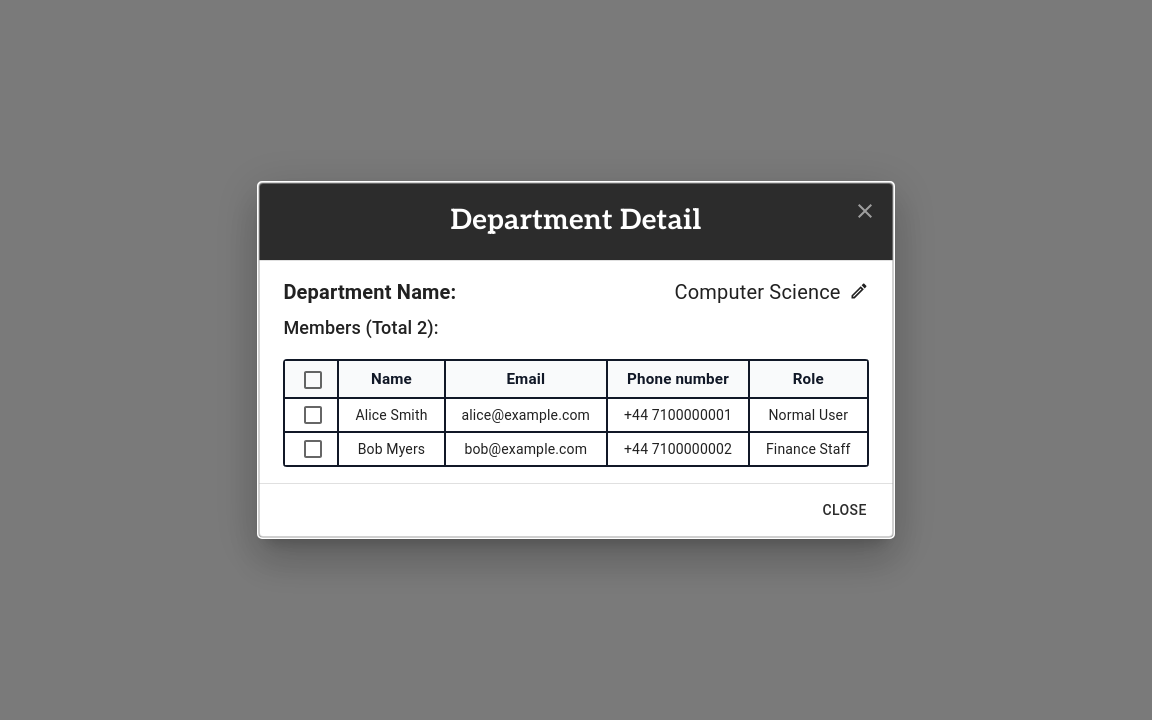
Scenario: Super-admin ViewDepartmentDialog › failed department name update shows server error message
This screenshot has width=1152, height=720.
Expected: the text "Alice Smith" is shown, [339, 399, 446, 433]
Click the icon next to "Computer Science" at x=859, y=291, box [849, 281, 869, 301]
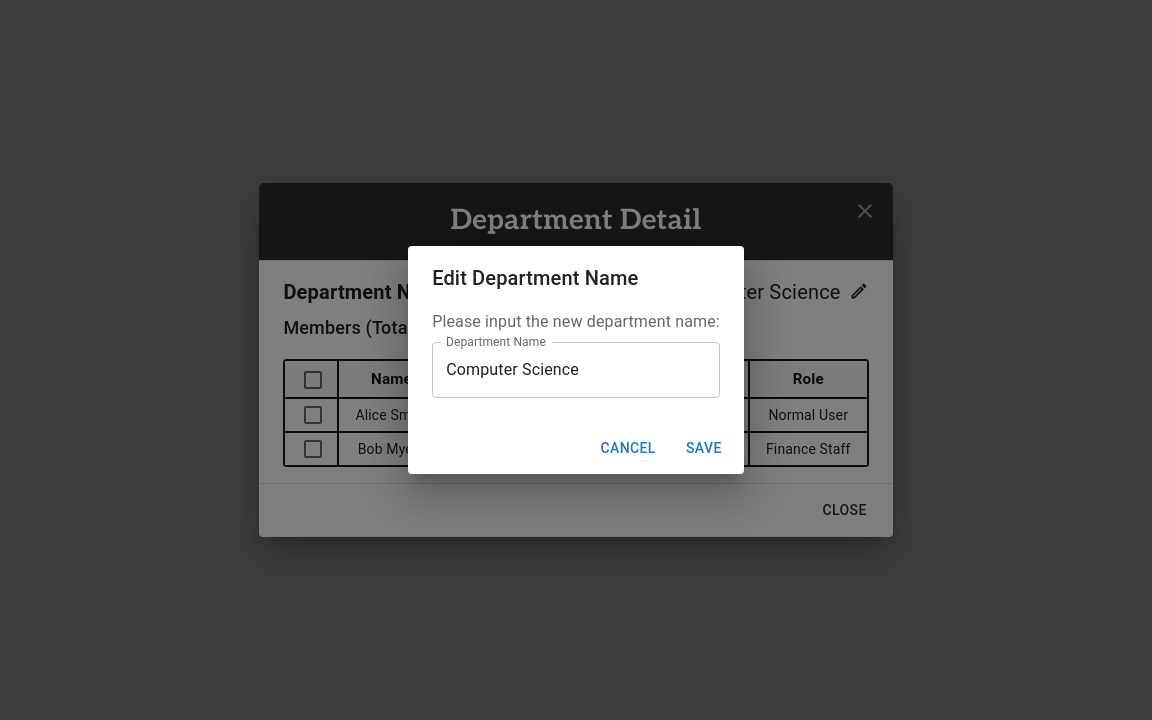
Replace the text in the field labelled "Department Name" with "Dup" at x=576, y=370, box [432, 342, 720, 398]
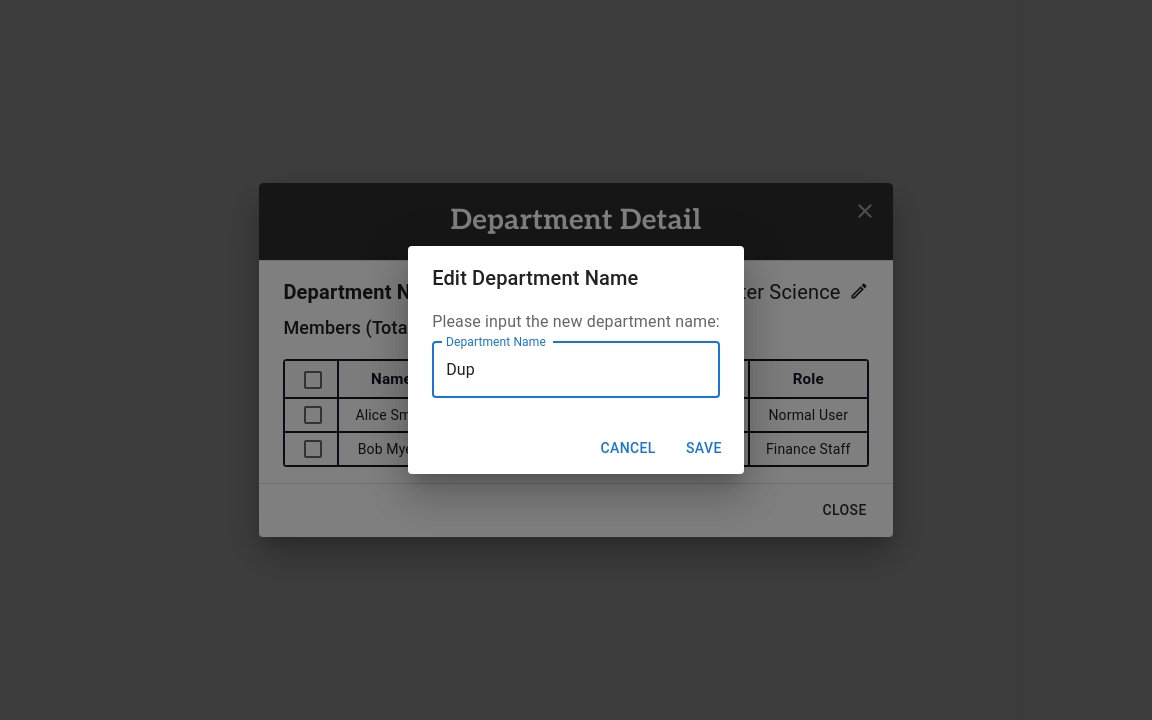
Click the button "Save" at x=704, y=448, box [672, 430, 736, 466]
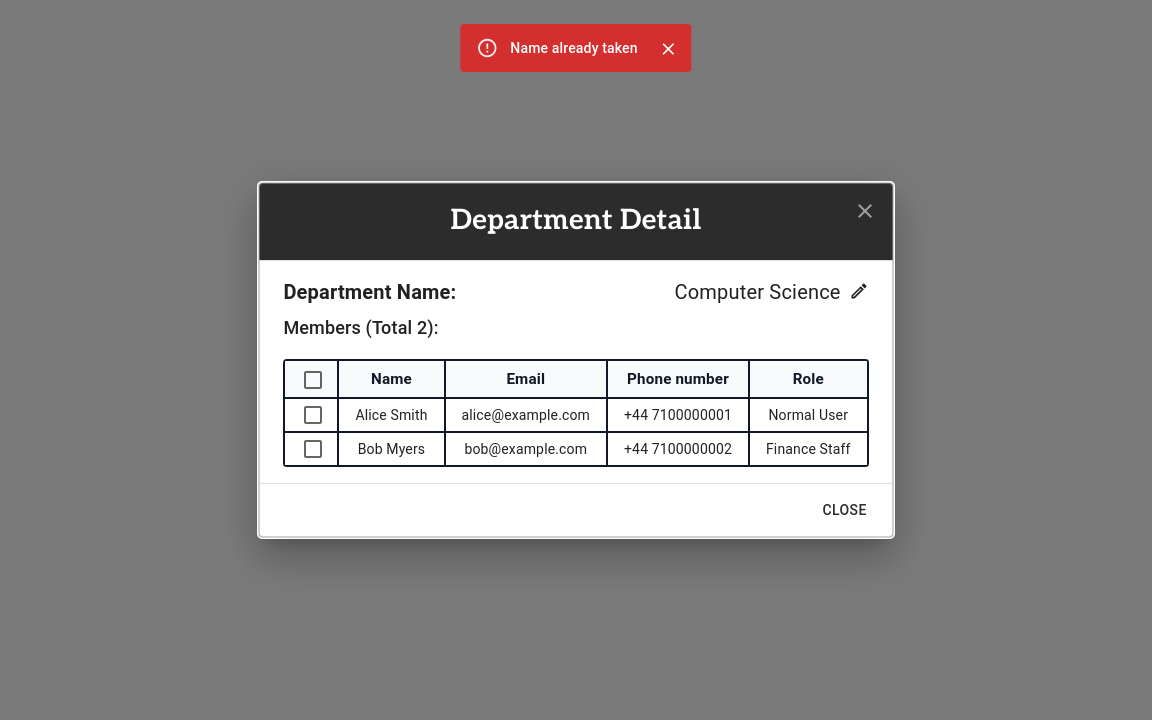
Expected: the text "Name already taken" is shown, [510, 40, 638, 56]
